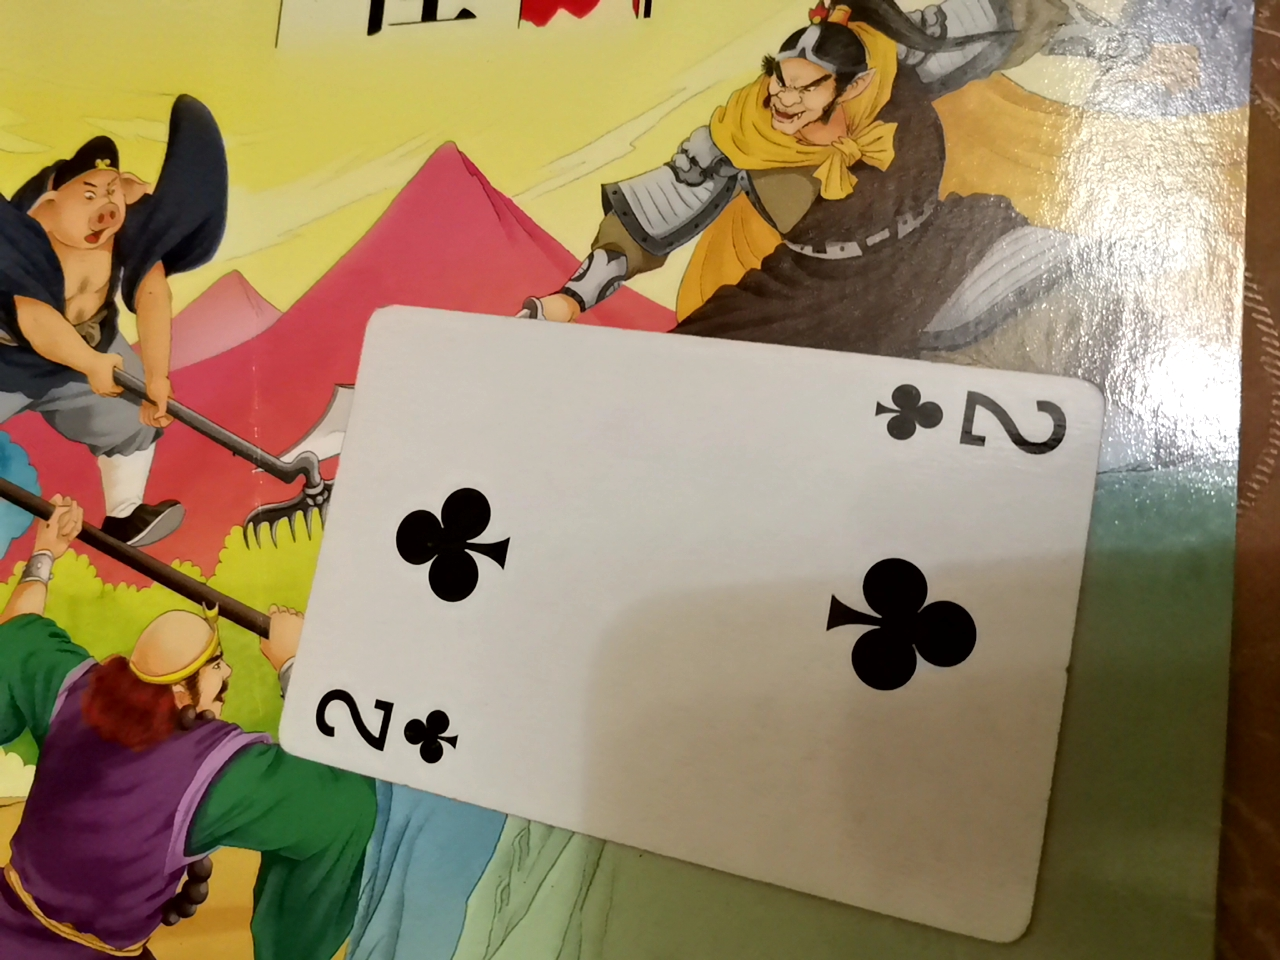mh 2: (291, 309, 1172, 895)
